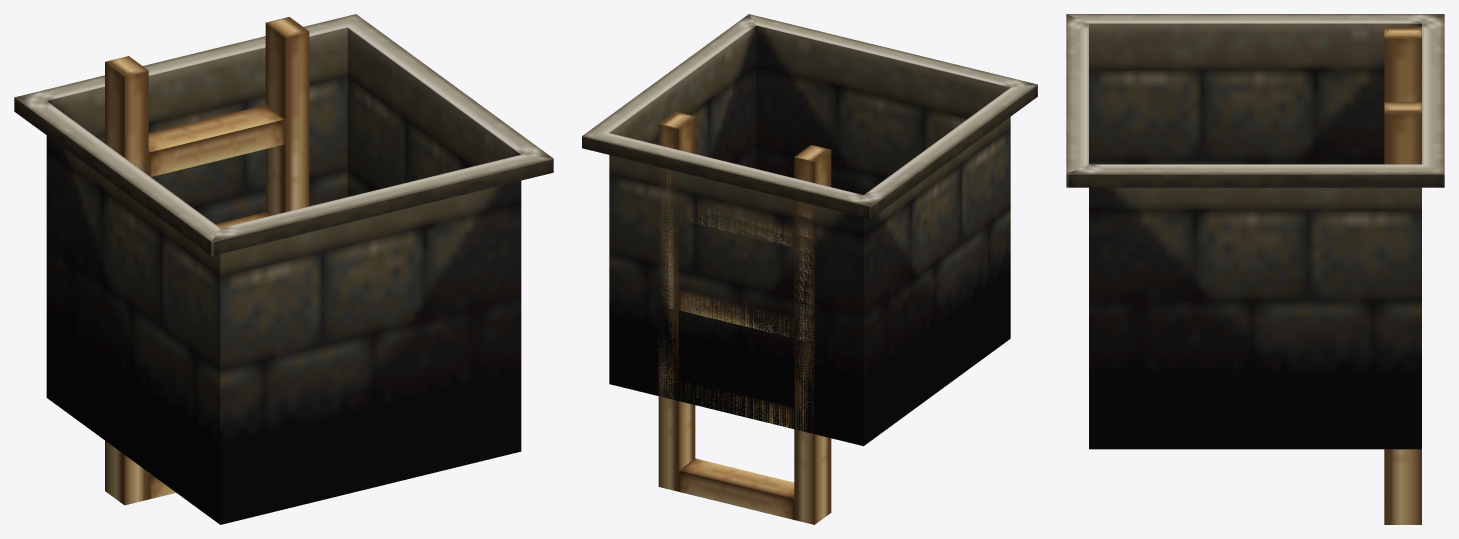
The model's file is Poly_Hole_Ladder_02_Down.obj.
3 views of the same model, side by side, from view 1: azimuth 30°, elevation 25°; view 2: azimuth 150°, elevation 25°; view 3: azimuth 270°, elevation 25° (orthographic). The views are drawn at different scales.
Parts seen in each view (by area): view 1: Cube.002, Cube.003; view 2: Cube.002, Cube.003; view 3: Cube.002, Cube.003.
Boxes of the visible parts, box(x1,y1,x2,y2) form: Cube.002: box(14, 14, 553, 524); Cube.003: box(105, 17, 309, 505); Cube.002: box(582, 14, 1037, 446); Cube.003: box(658, 111, 831, 524); Cube.002: box(1066, 14, 1444, 449); Cube.003: box(1384, 26, 1421, 524).
Bounding box in the file's own units: 1 × 1.2 × 1.
1 material, 1 textured.
